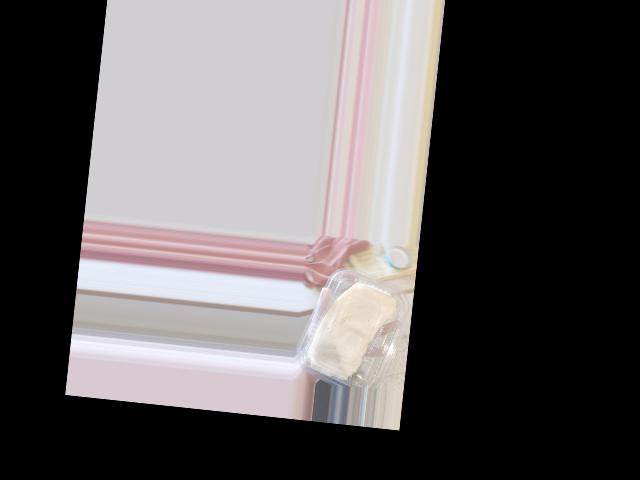cheese: (299, 262, 409, 392)
